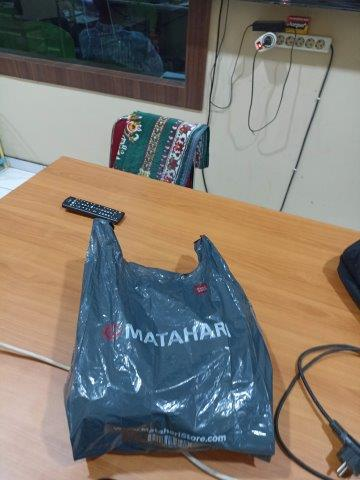plastik: (63, 217, 276, 460)
